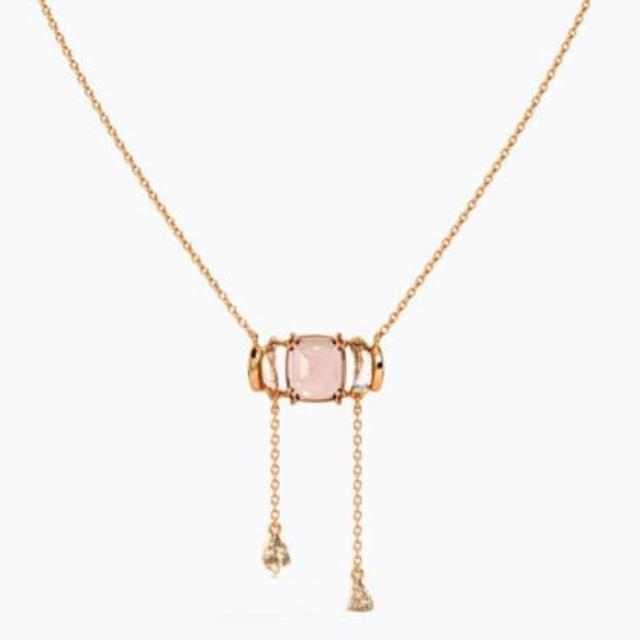missing gem: (346, 344, 371, 392), (265, 344, 284, 391), (346, 582, 373, 611)
